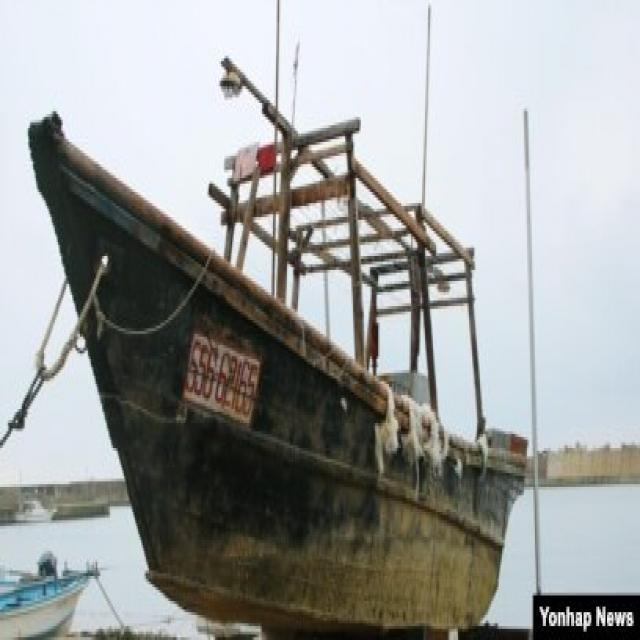Ship: (23, 1, 535, 638)
